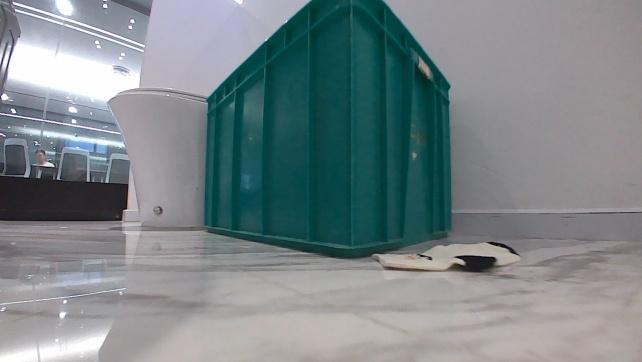socks: (369, 236, 524, 272)
toilet: (102, 86, 213, 232)
